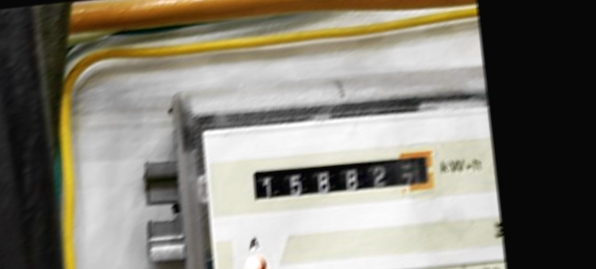1: (259, 174, 275, 197)
2: (369, 164, 388, 189)
5: (287, 171, 303, 197)
7: (400, 168, 414, 186)
8: (343, 167, 359, 192), (315, 170, 330, 194)
screen: (242, 142, 444, 218)
